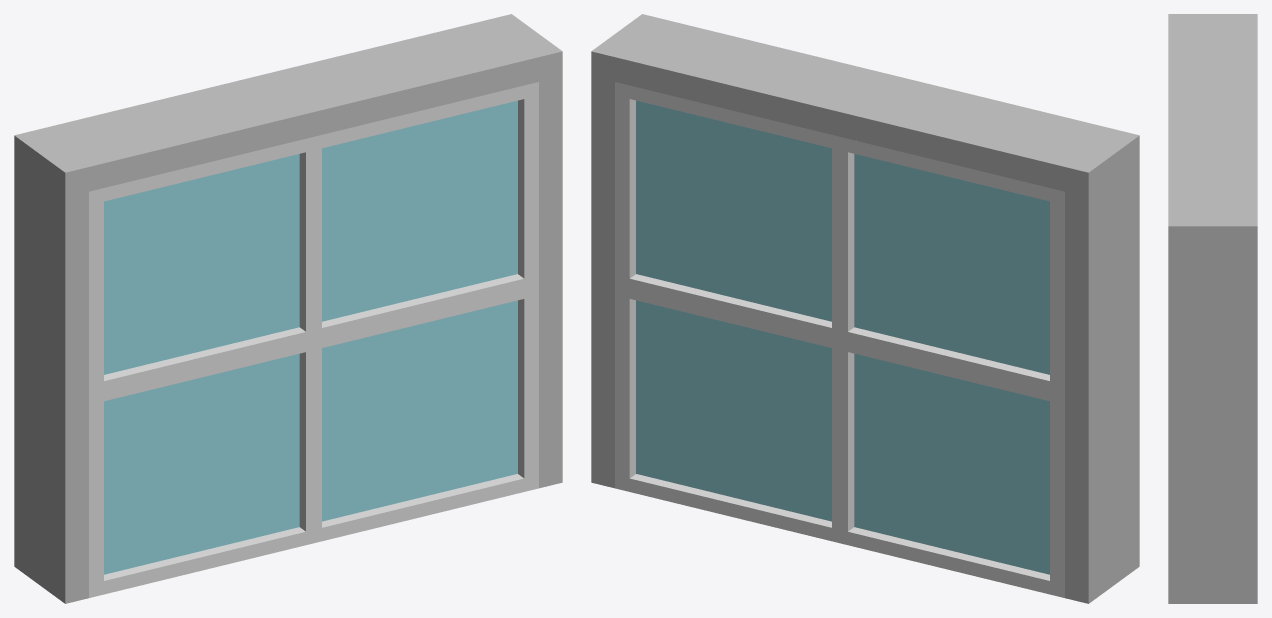
File: fenetre1.fbx
3 views of the same model, side by side, from view 1: azimuth 30°, elevation 25°; view 2: azimuth 150°, elevation 25°; view 3: azimuth 270°, elevation 25° (orthographic). The views are drawn at different scales.
Parts seen in each view (by area): view 1: Cube.008; view 2: Cube.008; view 3: Cube.008.
Part boxes in pixels (x1,y1,x2,y2): Cube.008: [14, 14, 562, 603]; Cube.008: [591, 14, 1139, 603]; Cube.008: [1168, 14, 1257, 603].
Bounding box in the file's own units: 450 × 373 × 80.
